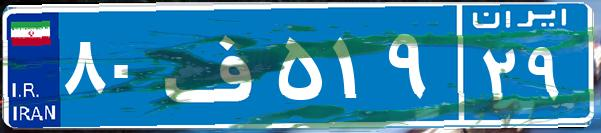0: (110, 28, 158, 105)
1: (330, 28, 385, 110)
2: (475, 38, 525, 113)
5: (273, 28, 330, 110)
8: (57, 26, 110, 107)
9: (385, 28, 445, 110), (525, 38, 570, 115)
ف: (158, 15, 273, 115)
